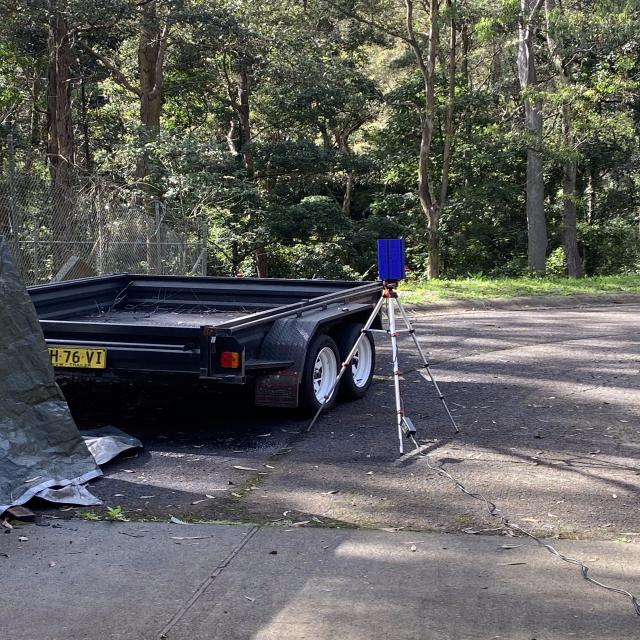matrix: (374, 235, 412, 281)
